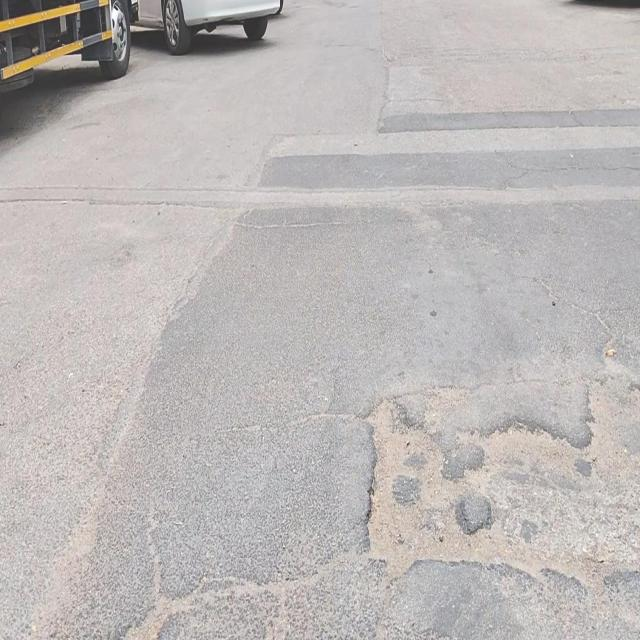Potholes: (364, 387, 490, 592), (457, 418, 593, 585)
